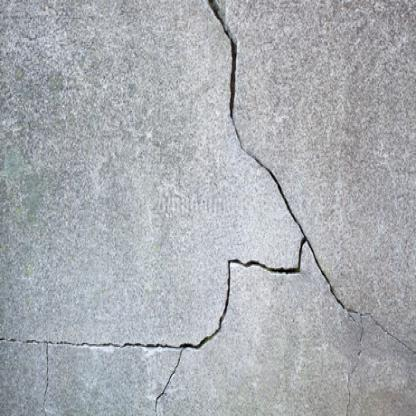branched cracks: (0, 0, 415, 415)
